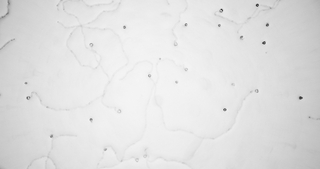germinated: (114, 106, 122, 115), (250, 88, 259, 95), (172, 37, 178, 47), (25, 92, 32, 100), (214, 8, 223, 14), (131, 156, 140, 162), (143, 149, 149, 158), (88, 42, 95, 49), (181, 65, 188, 72)
nongerminated: (264, 21, 271, 28), (182, 21, 188, 29), (260, 39, 267, 45), (216, 22, 222, 29), (297, 94, 303, 101), (221, 105, 227, 112), (146, 72, 153, 78), (88, 116, 94, 123), (103, 146, 109, 153), (254, 1, 260, 7), (238, 34, 244, 40), (121, 24, 127, 30), (48, 132, 53, 139), (174, 79, 179, 84)
